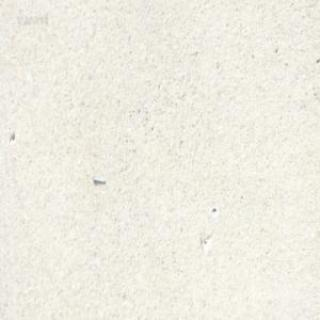Nailtrack_idkeyframe: (91, 173, 105, 183)
